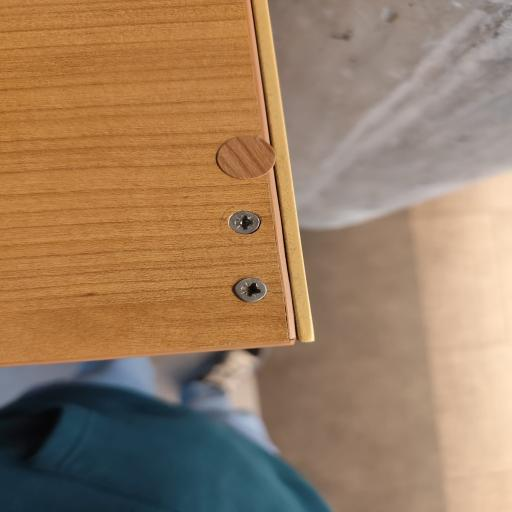Pozidriv: (226, 273, 270, 311), (221, 206, 266, 240)
